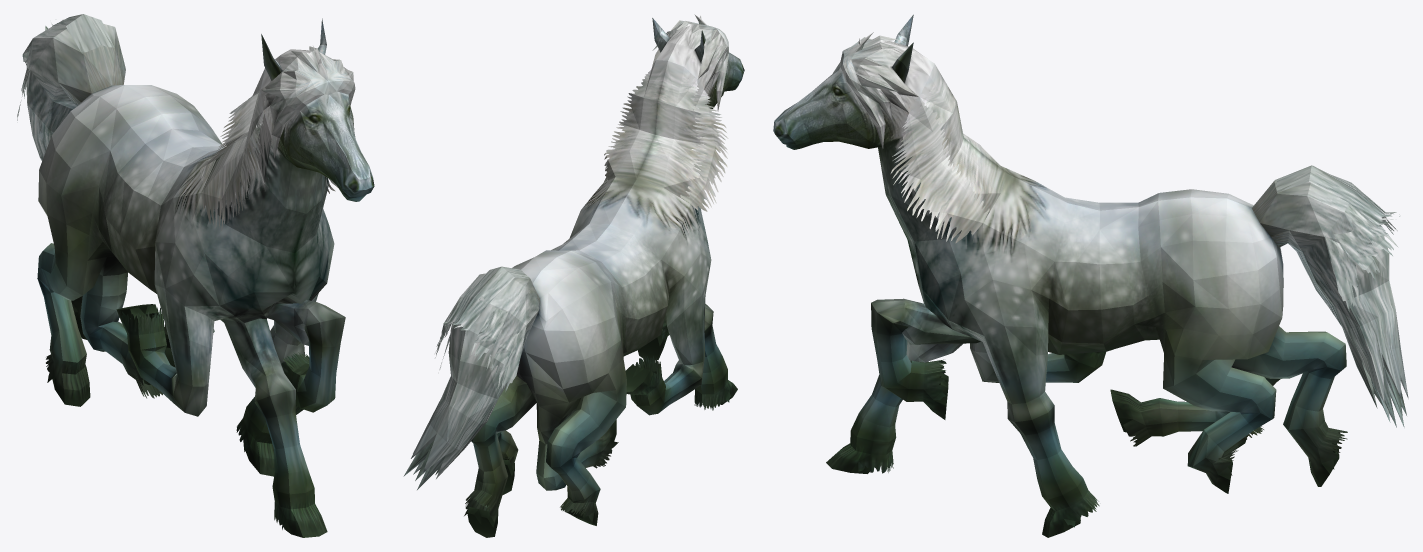
File: Sleipnir.fbx
3 renders of one model, left to right at view 1: azimuth 30°, elevation 25°; view 2: azimuth 150°, elevation 25°; view 3: azimuth 270°, elevation 25°, orthographic. The views are drawn at different scales.
Visible parts, largest first — view 1: Body; view 2: Body; view 3: Body.
Part boxes in pixels (<box>): Body: <box>17,14,374,537</box>; Body: <box>403,14,744,537</box>; Body: <box>773,14,1408,537</box>.
Size of the model in its own units: 429 by 1255 by 1496.
1 material, 1 textured.
